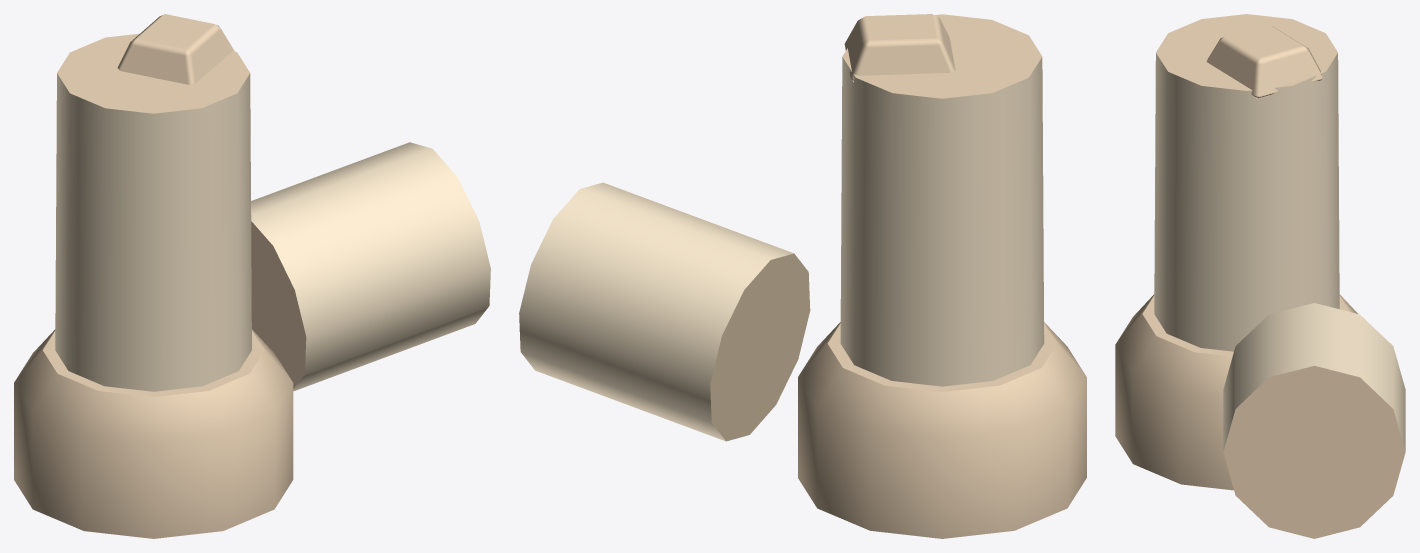
The model's file is prop_column_stub.glb.
3 views of the same model, side by side, from view 1: azimuth 30°, elevation 25°; view 2: azimuth 150°, elevation 25°; view 3: azimuth 270°, elevation 25° (orthographic). The views are drawn at different scales.
Parts seen in each view (by area): view 1: prop_column_stub; view 2: prop_column_stub; view 3: prop_column_stub.
Boxes of the visible parts, x1,y1,x2,y2 form: prop_column_stub: (14,14,490,538); prop_column_stub: (519,14,1086,538); prop_column_stub: (1115,14,1405,538).
Bounding box in the file's own units: 2.94 × 2.68 × 1.72.
